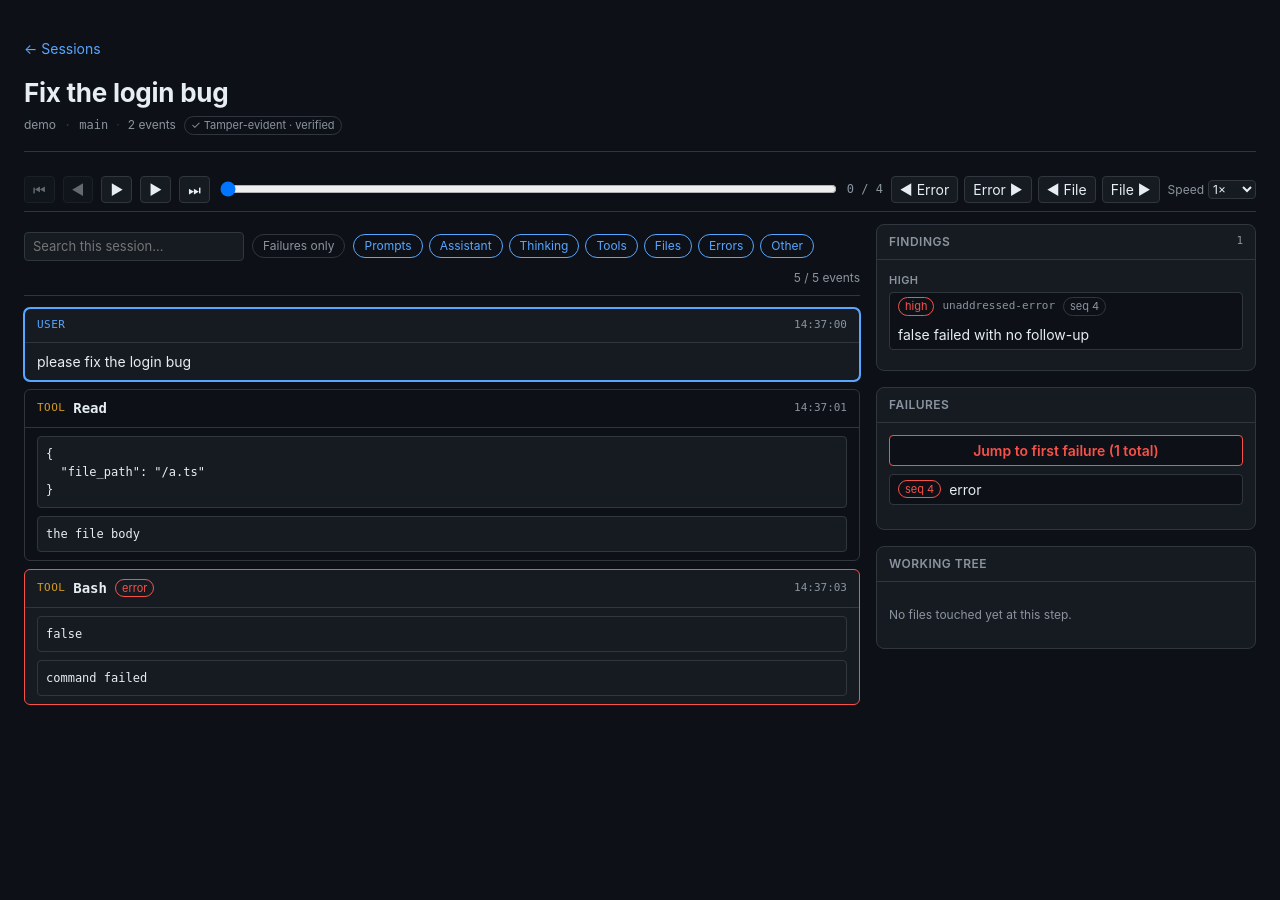
Test: SessionDetailPage › re-enables the Errors chip when jumping to a failure the filter is currently hiding
This screenshot has width=1280, height=900.
Check: the text "please fix the login bug" is shown, box [37,352,191,370]
Click the button "Errors" at (726, 246), box [698,234,754,258]
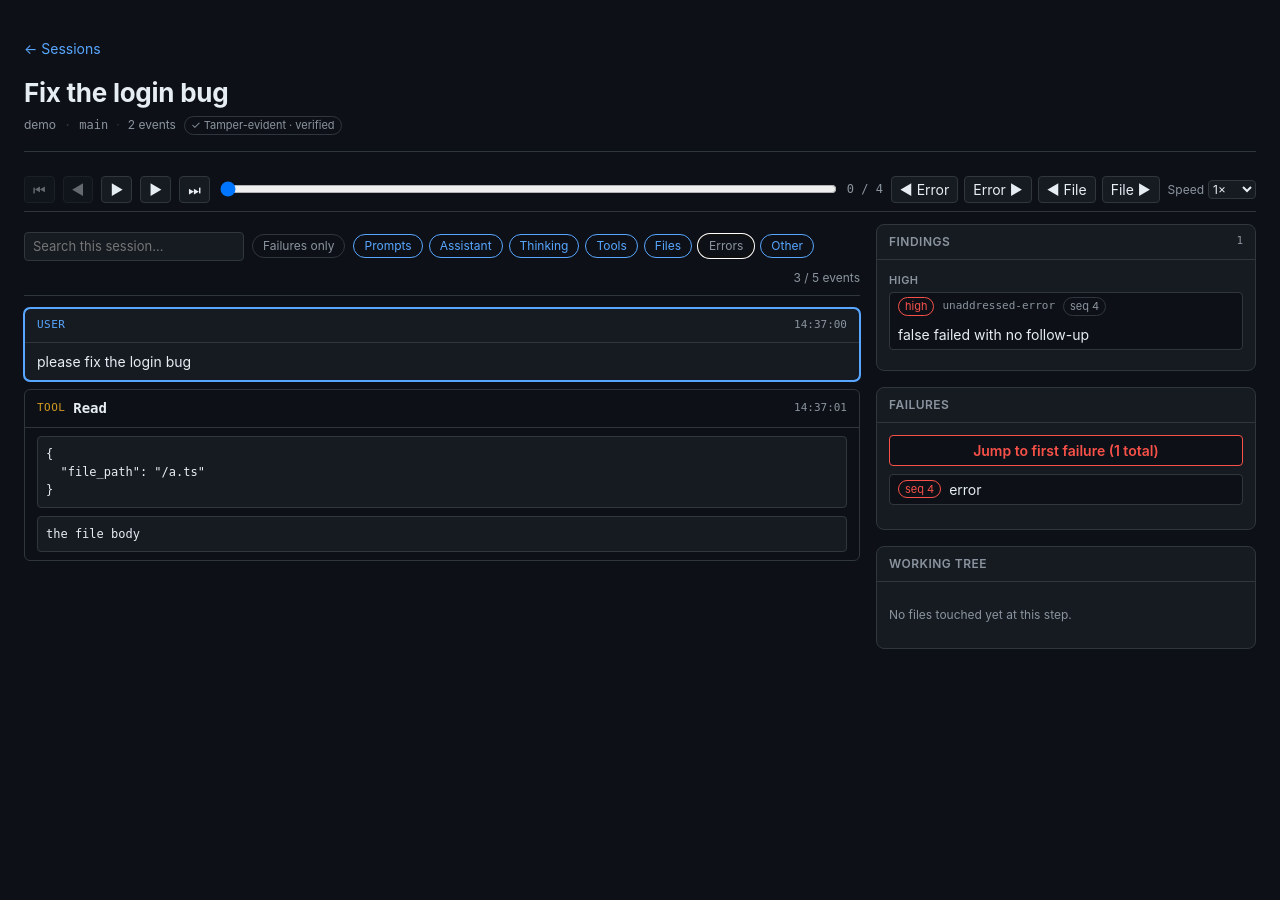
Check: the text "command failed" is gone
Click the button "Jump to first failure (1 total)" at (1066, 450), box [889,434,1243,466]
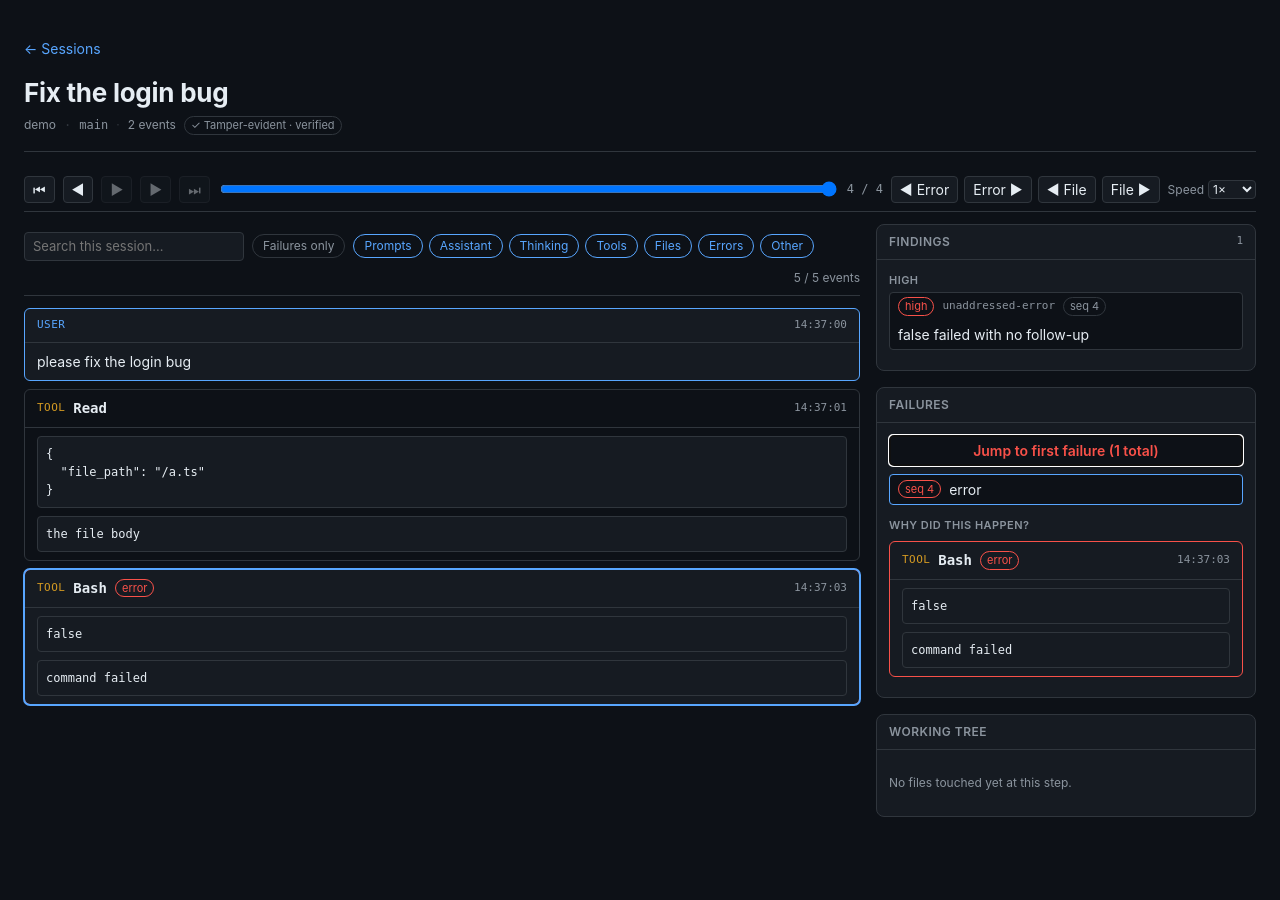
Check: the element with class "session-column-main" is shown, box [24,224,860,689]
Check: the text "command failed" below "the file body" is shown, box [46,670,147,684]
